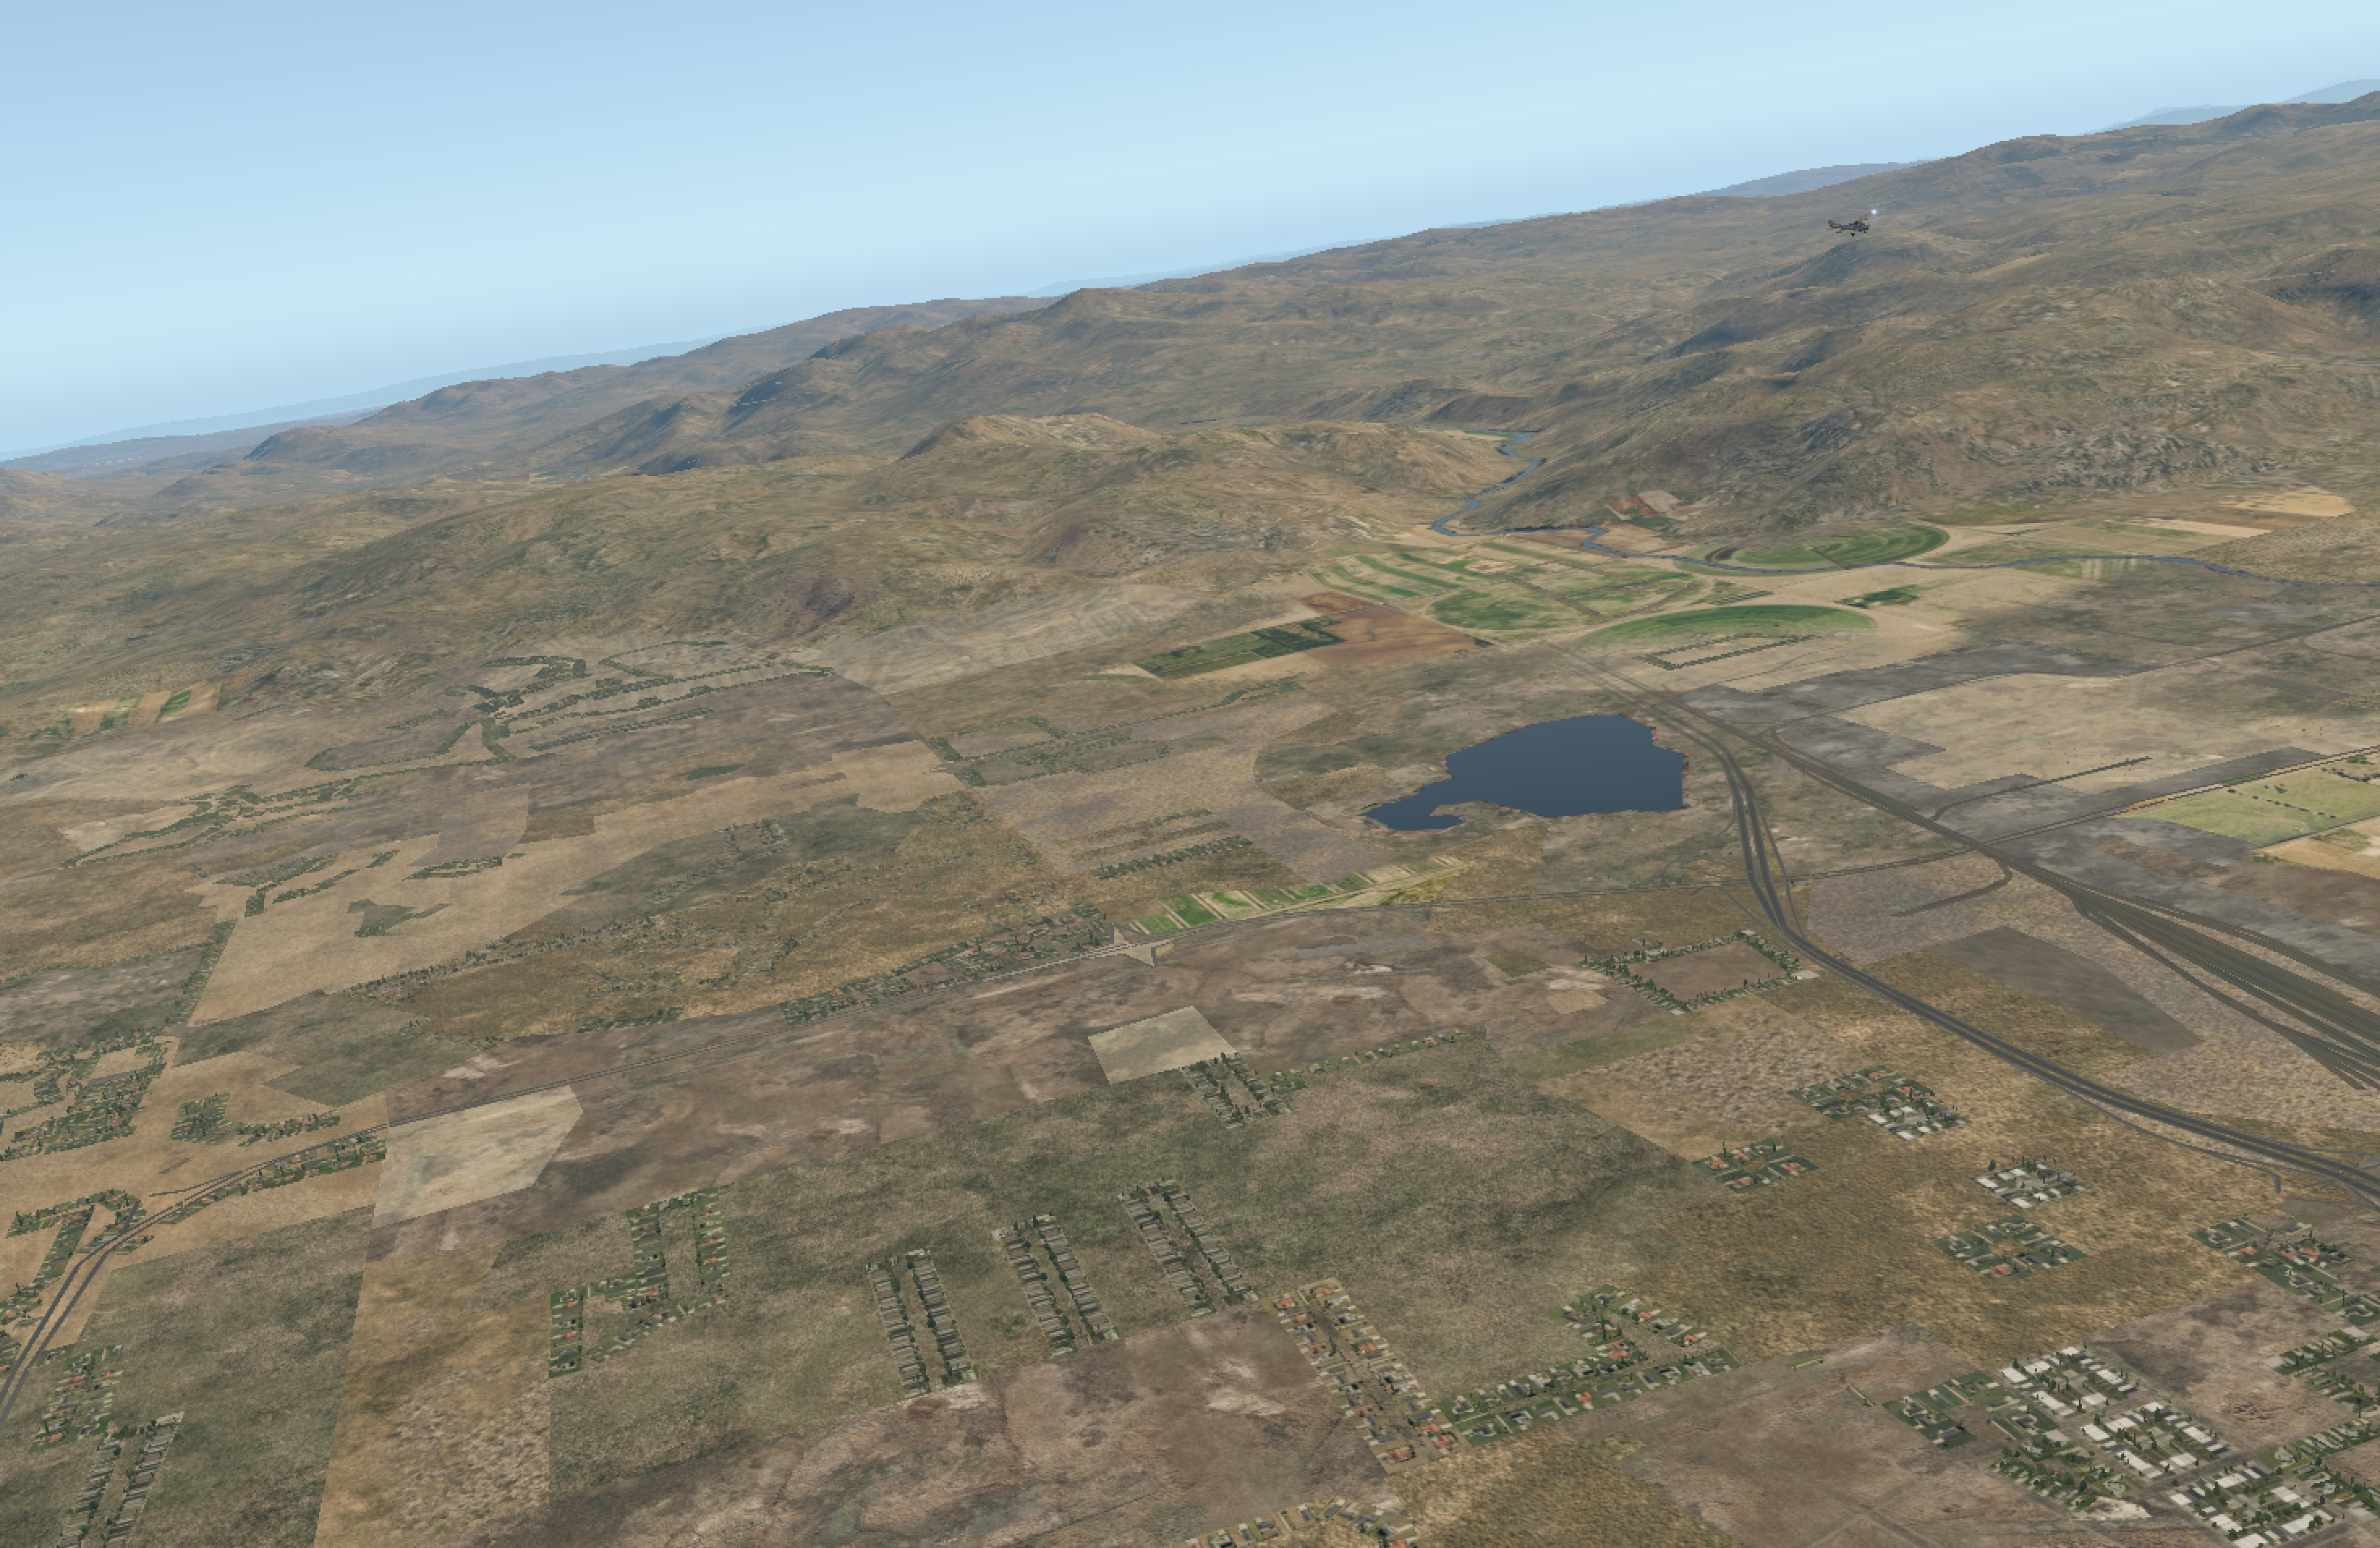aircraft: (1837, 219, 1879, 234)
